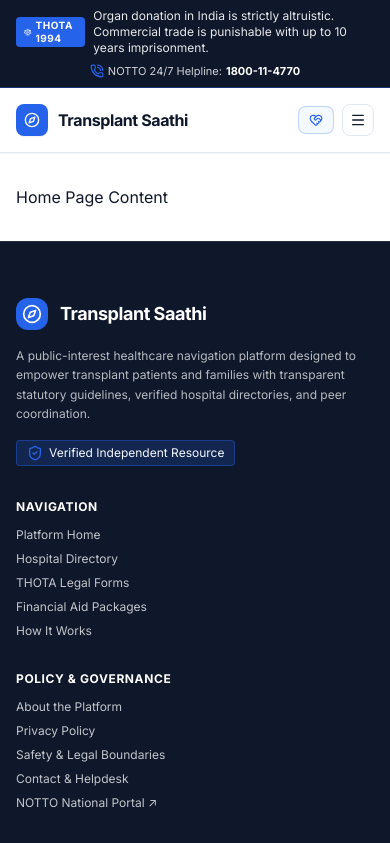
Test: Redesigned Transplant Saathi Navigation Bar › toggles mobile menu and allows keyboard navigation with Escape
This screenshot has width=390, height=843.
# Click to open
Click the button named "toggle navigation menu": point(358, 120) [342,104,374,136]
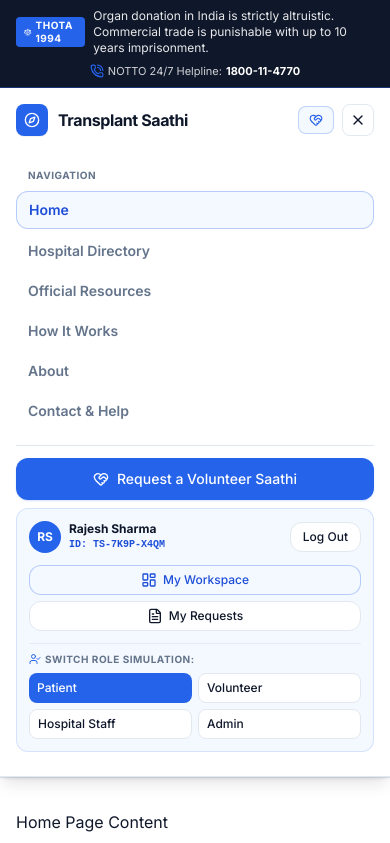
Check: the button named "toggle navigation menu" is expanded, box [342,104,374,136]
Check: the text "Request a Volunteer Saathi" is shown, box [117,469,297,489]
# Press Escape to close
Press Escape
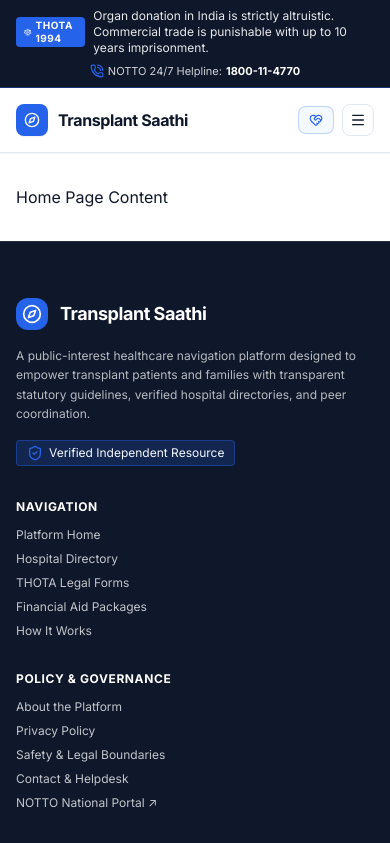
Check: the button named "toggle navigation menu" is collapsed, box [342,104,374,136]
